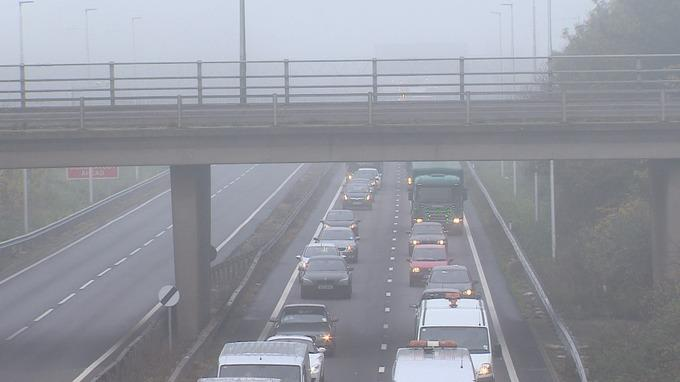bus: (401, 162, 469, 236), (217, 340, 311, 382)
car: (410, 296, 496, 382), (386, 339, 477, 382), (260, 334, 328, 380), (273, 315, 340, 358), (412, 288, 465, 341), (297, 255, 355, 301), (423, 264, 481, 308), (268, 303, 339, 336), (406, 243, 455, 289), (295, 242, 347, 284), (313, 227, 360, 263), (408, 222, 449, 258), (319, 210, 362, 241), (341, 183, 374, 210), (353, 167, 382, 190)
